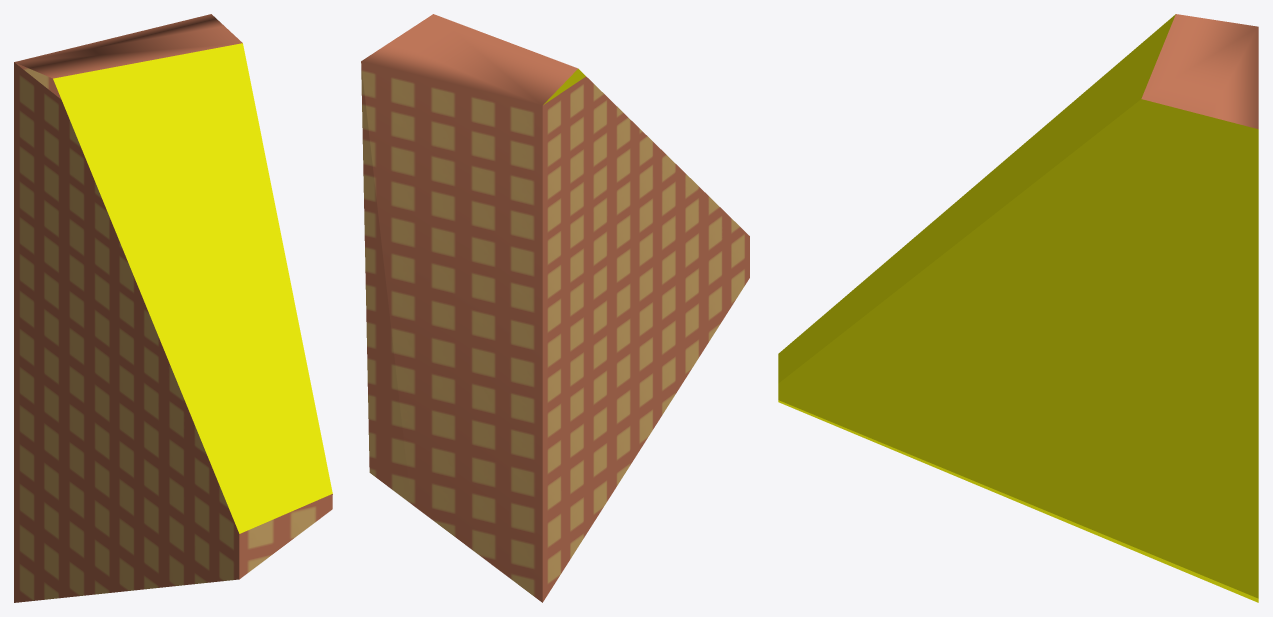
The model's file is stShard1.fbx.
3 renders of one model, left to right at view 1: azimuth 30°, elevation 25°; view 2: azimuth 150°, elevation 25°; view 3: azimuth 270°, elevation 25°, orthographic. The views are drawn at different scales.
Visible parts, largest first — view 1: shard26; view 2: shard26; view 3: shard26.
Part boxes in pixels (x1,y1,x2,y2): shard26: (14,14,332,602); shard26: (361,14,749,602); shard26: (778,14,1258,602).
Size of the model in its own units: 0.0895 by 0.2418 by 0.1771.
Materials: 2 (1 with a texture image).
